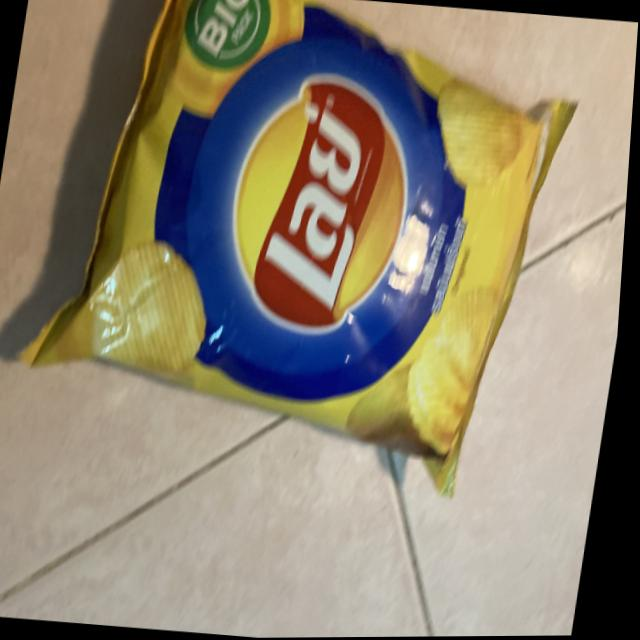LayYellow: (35, 0, 590, 466)
